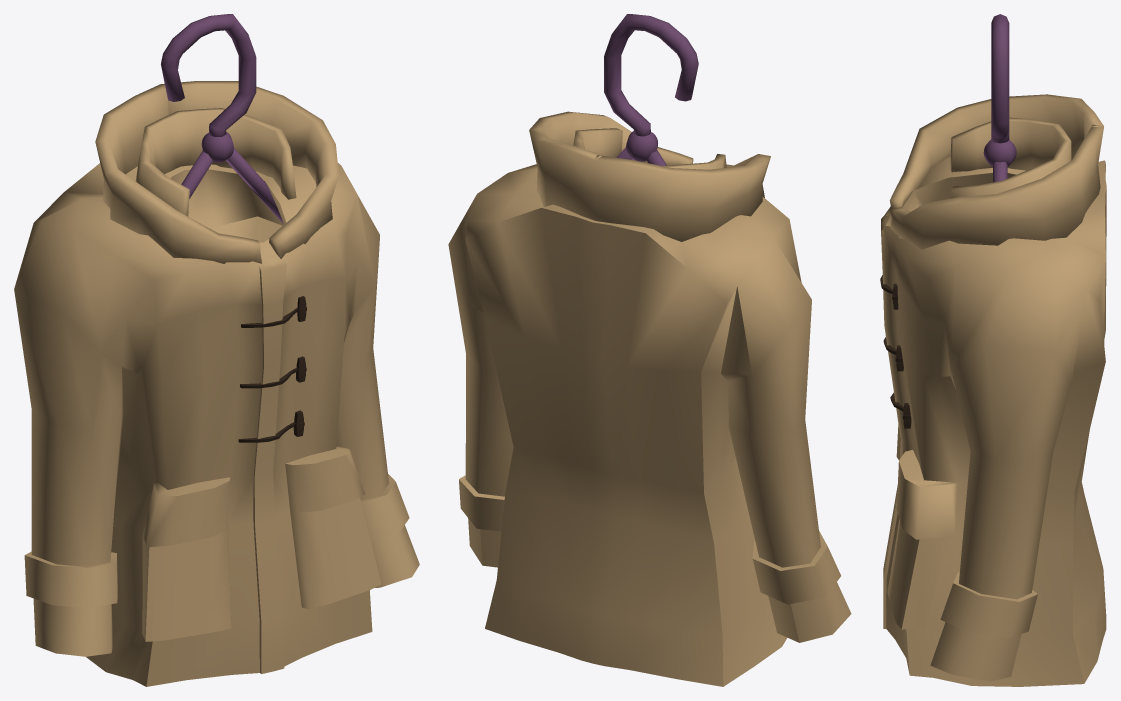
File: Chaqueta.fbx
3 views of the same model, side by side, from view 1: azimuth 30°, elevation 25°; view 2: azimuth 150°, elevation 25°; view 3: azimuth 270°, elevation 25° (orthographic).
Parts seen in each view (by area): view 1: Cube, Cube.007, Cube.008, Cylinder.027, Cylinder.026, Sphere; view 2: Cube, Cube.007, Cylinder.027, Cube.008, Sphere; view 3: Cube, Cube.007, Cube.008, Cylinder.027, Sphere.
Boxes of the visible parts, x1,y1,x2,y2 form: Cube: (14,163,419,686); Cube.007: (95,81,338,263); Cube.008: (135,108,296,216); Cylinder.027: (161,14,256,136); Cylinder.026: (181,148,283,223); Sphere: (201,132,233,162); Cube: (448,163,851,686); Cube.007: (529,111,770,241); Cylinder.027: (604,14,698,136); Cube.008: (573,128,726,169); Sphere: (626,131,657,161); Cube: (881,157,1106,686); Cube.007: (885,94,1103,249); Cube.008: (950,117,1071,198); Cylinder.027: (991,14,1009,143); Sphere: (983,139,1016,166).
Size of the model in its own units: 62.91 by 101 by 34.22.
